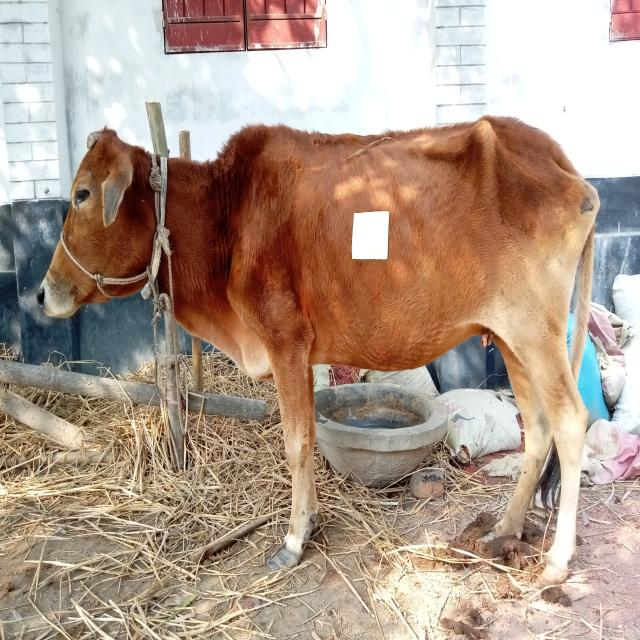badan_sapi: (266, 133, 560, 369)
sapi: (42, 115, 599, 587)
